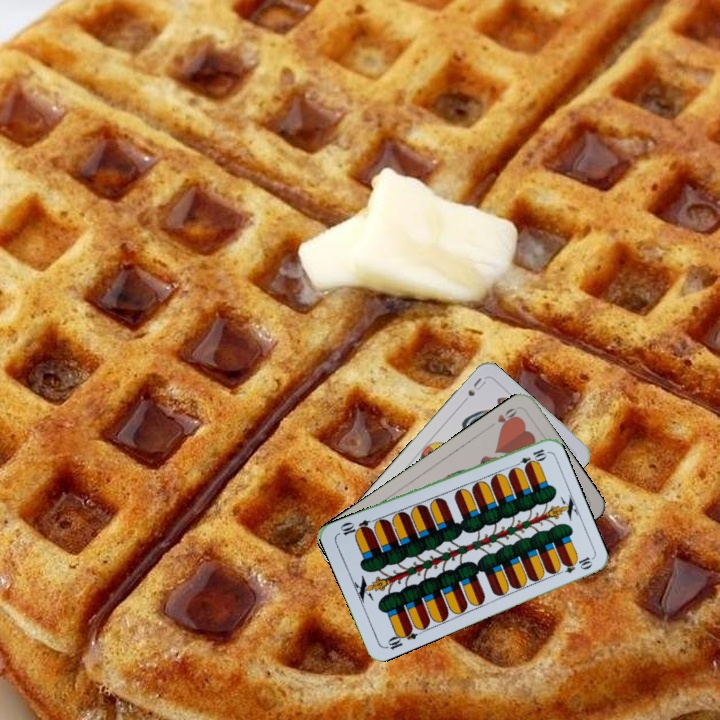E10: (381, 623, 420, 652), (510, 445, 549, 471)
HO: (493, 404, 521, 432)
SU: (464, 373, 489, 399)
